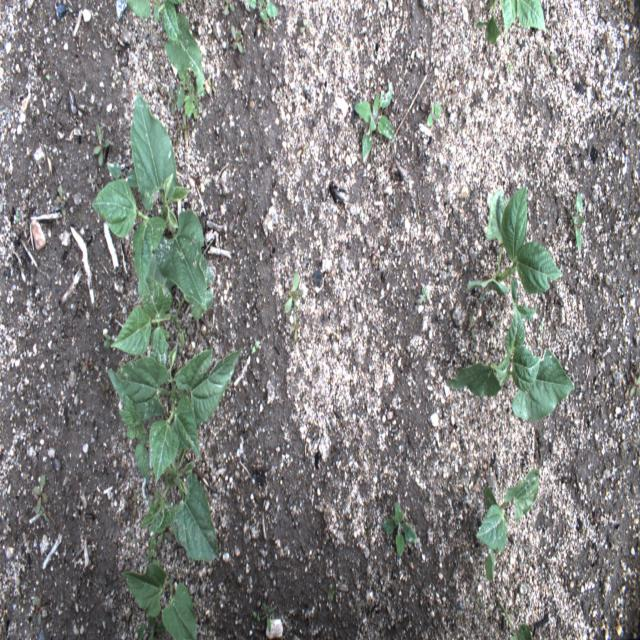crop: (108, 342, 245, 565), (92, 88, 214, 314), (447, 300, 577, 424), (470, 182, 564, 321), (124, 1, 206, 123), (476, 469, 542, 589), (110, 254, 174, 364), (120, 560, 199, 637), (475, 1, 549, 48)
weed: (349, 86, 398, 166), (376, 498, 420, 563), (567, 181, 587, 257), (281, 265, 304, 319), (92, 118, 114, 173), (32, 472, 49, 514)
